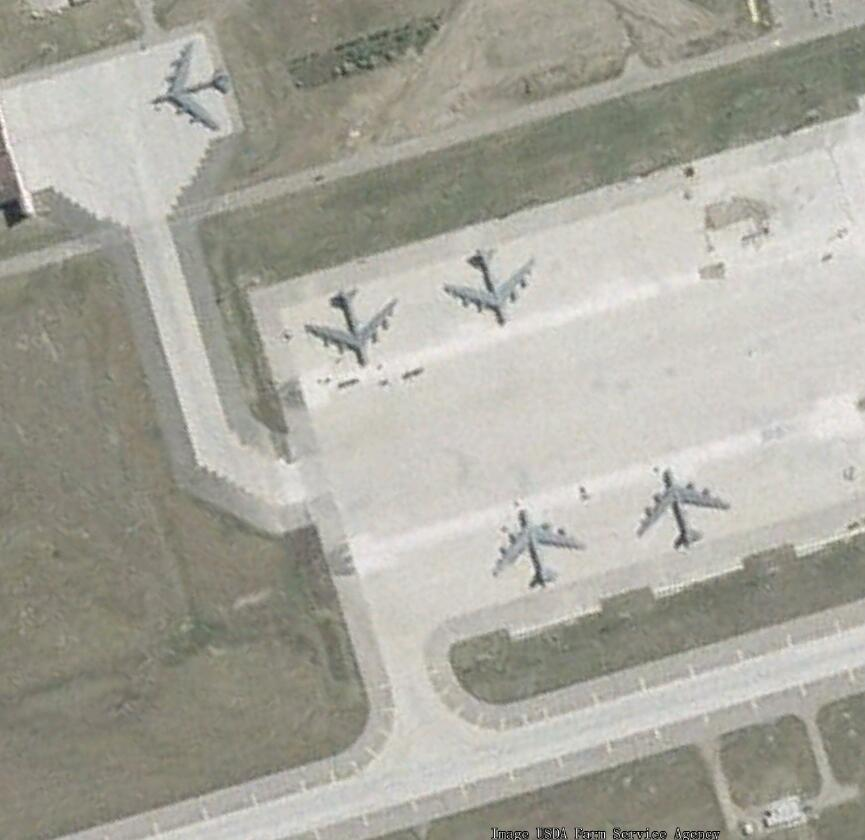A8: (142, 38, 237, 135), (486, 502, 588, 591), (629, 467, 733, 552), (438, 248, 539, 333), (297, 290, 401, 372)
